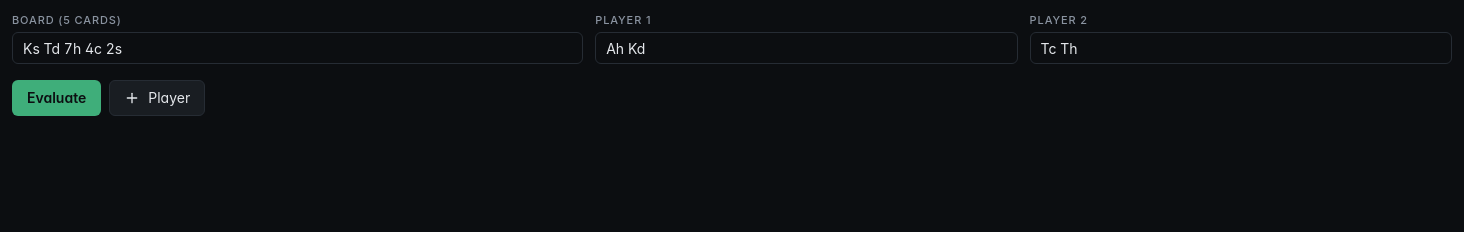
ShowdownTool › shows engine results and the winner
The image size is (1464, 232).
Click the button "Evaluate": (57, 98) [12, 80, 101, 116]
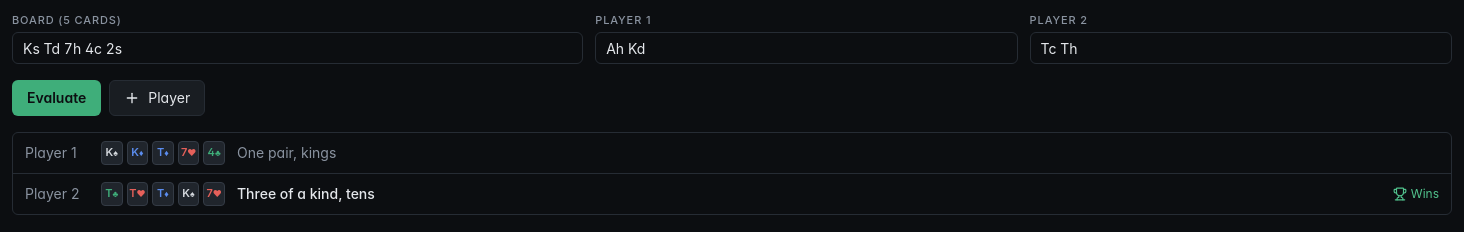
Expected: the text "Three of a kind, tens" is shown, [237, 184, 375, 204]
Expected: the text "Wins" is shown, [1393, 186, 1439, 202]
